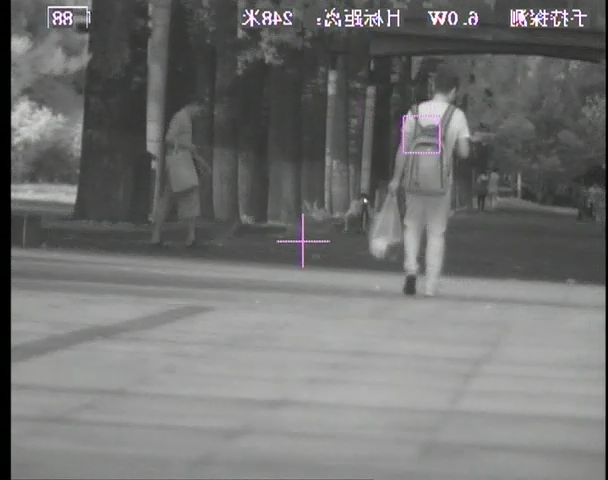my: (362, 197, 369, 205)
